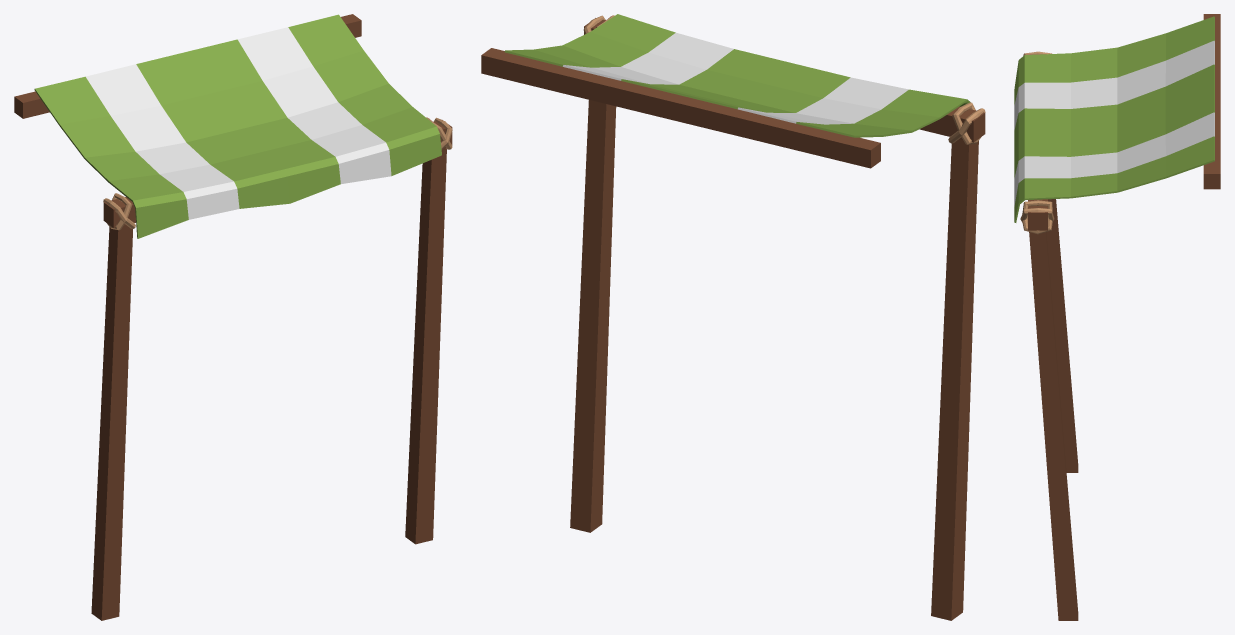
Rendered from Tent_03.fbx.
3 views of the same model, side by side, from view 1: azimuth 30°, elevation 25°; view 2: azimuth 150°, elevation 25°; view 3: azimuth 270°, elevation 25° (orthographic). The views are drawn at different scales.
Visible parts, largest first — view 1: Tent_03; view 2: Tent_03; view 3: Tent_03.
Boxes of the visible parts, left/top/right/bottom form: Tent_03: left=14, top=14, right=452, bottom=620; Tent_03: left=481, top=14, right=985, bottom=620; Tent_03: left=1014, top=14, right=1220, bottom=620.
Size of the model in its own units: 223 by 295 by 121.
